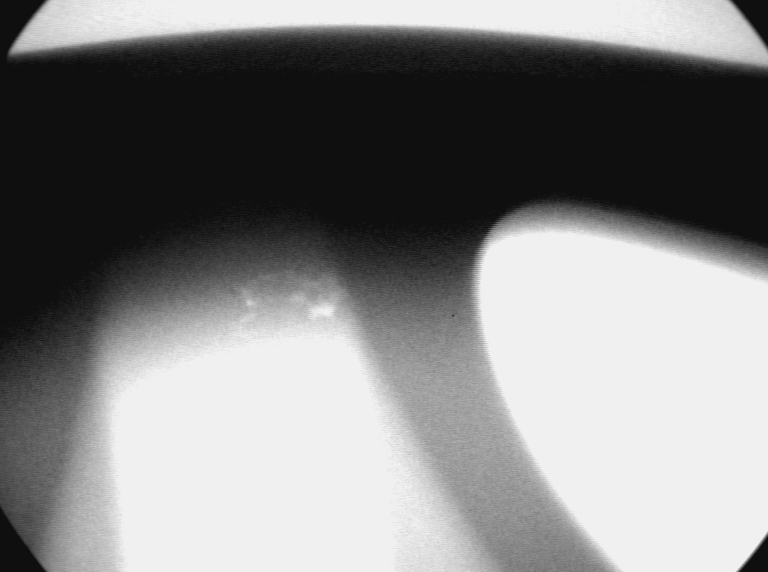defect: (234, 264, 344, 342)
